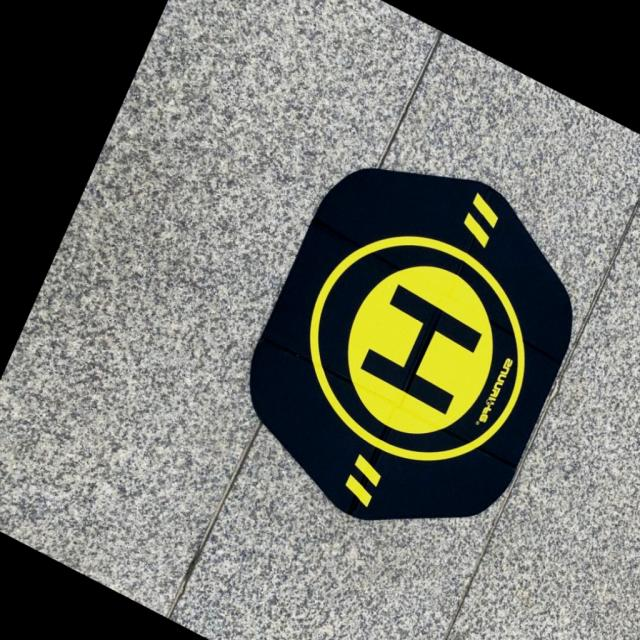helipad: (304, 229, 530, 463)
